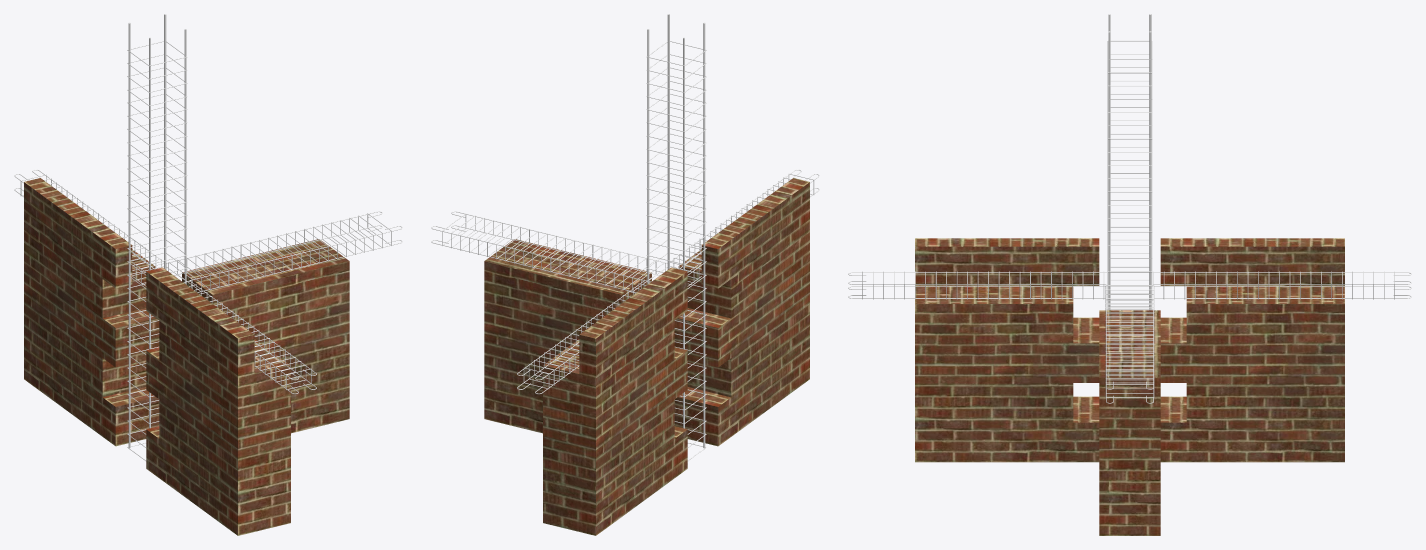
The model's file is construction-column.glb.
The picture shows the model from 3 angles, left to right: view 1: azimuth 30°, elevation 25°; view 2: azimuth 150°, elevation 25°; view 3: azimuth 270°, elevation 25°; orthographic projection.
Visible parts, largest first — view 1: 墙体, 钢筋, 箍筋; view 2: 墙体, 钢筋, 箍筋; view 3: 墙体, 箍筋, 钢筋.
Part boxes in pixels (x1,y1,x2,y2): 墙体: [24, 178, 349, 535]; 钢筋: [127, 14, 187, 460]; 箍筋: [14, 169, 402, 394]; 墙体: [484, 178, 809, 535]; 钢筋: [646, 14, 706, 460]; 箍筋: [431, 169, 819, 394]; 墙体: [915, 238, 1344, 535]; 箍筋: [848, 271, 1411, 403]; 钢筋: [1107, 14, 1152, 310].
Size of what is drawn, in the model's own units: 1.73 by 2.69 by 3.22.
3 materials, 2 textured.
